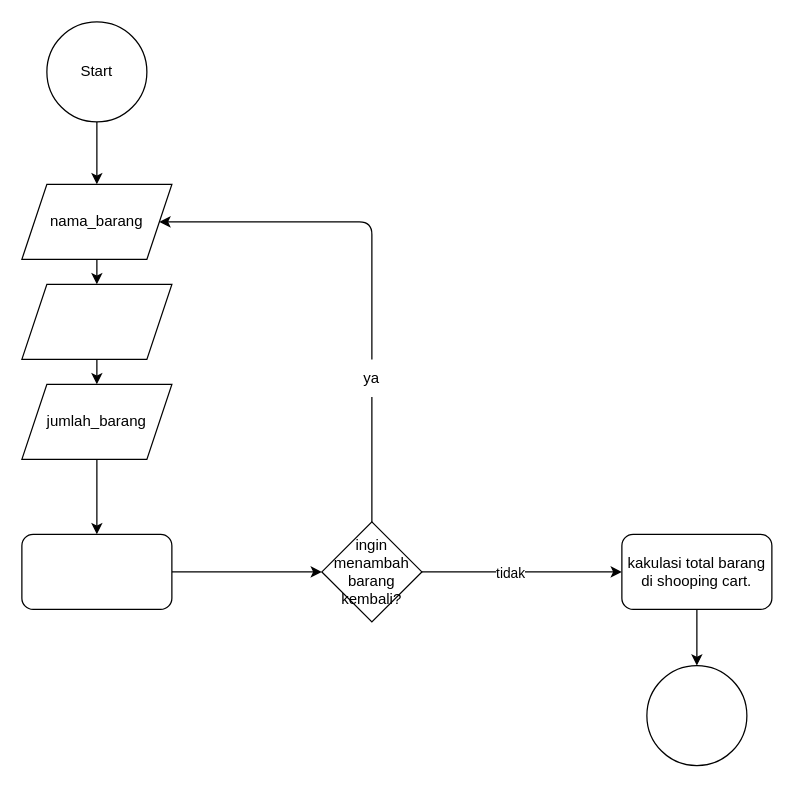
The diagram is 794 pixels wide and 788 high, and some of its shapes have lost their labels. The shapes that lost their labels are listed below. From the top down, each one's box as (x1, y1, x2, y2) in pixels, then its label:
(21, 283, 172, 359): harga_barang
(21, 533, 172, 609): Tambahkan barang ke Shopping Cart
(646, 664, 747, 766): end
